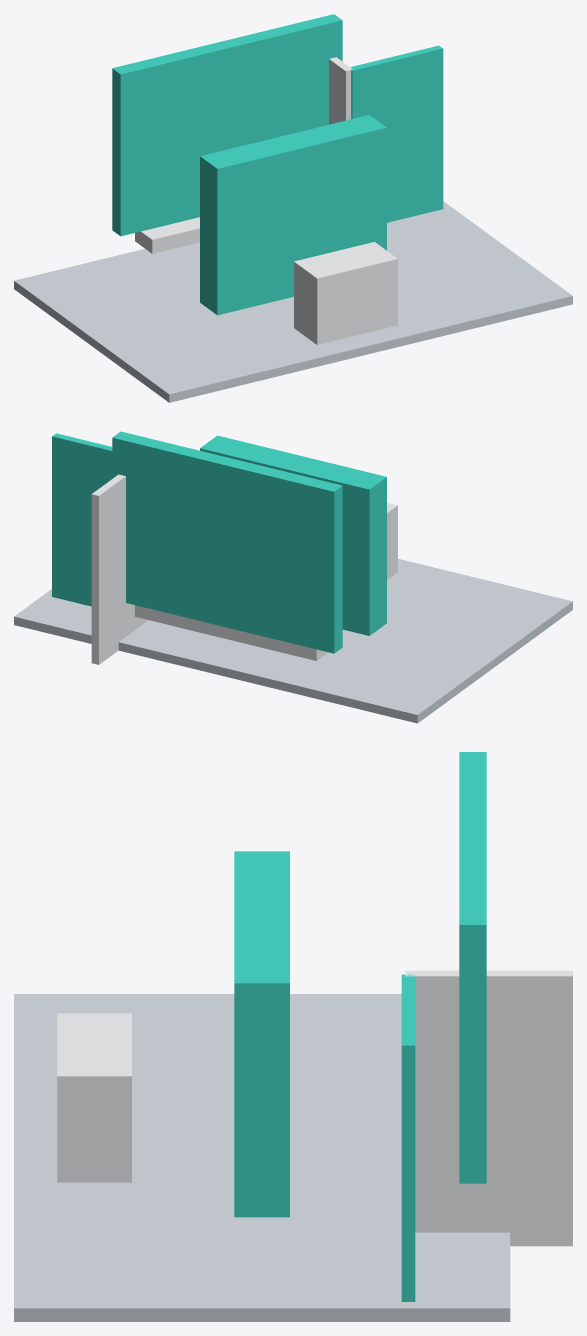
3 views of the same model, one above another, from view 1: azimuth 30°, elevation 25°; view 2: azimuth 150°, elevation 25°; view 3: azimuth 270°, elevation 25° (orthographic). The views are drawn at different scales.
Visible parts, largest first — view 1: Exhibition Booth Concept; view 2: Exhibition Booth Concept; view 3: Exhibition Booth Concept.
Boxes of the visible parts, x1,y1,x2,y2 form: Exhibition Booth Concept: (14, 14, 572, 402); Exhibition Booth Concept: (14, 431, 572, 723); Exhibition Booth Concept: (14, 752, 572, 1321).
Size of the model in its own units: 6 by 2.9 by 4.51.
